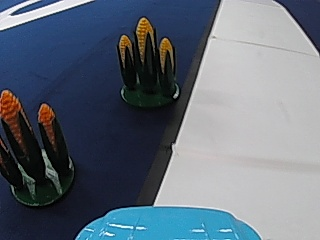corn: (2, 93, 75, 207), (113, 10, 182, 107)
